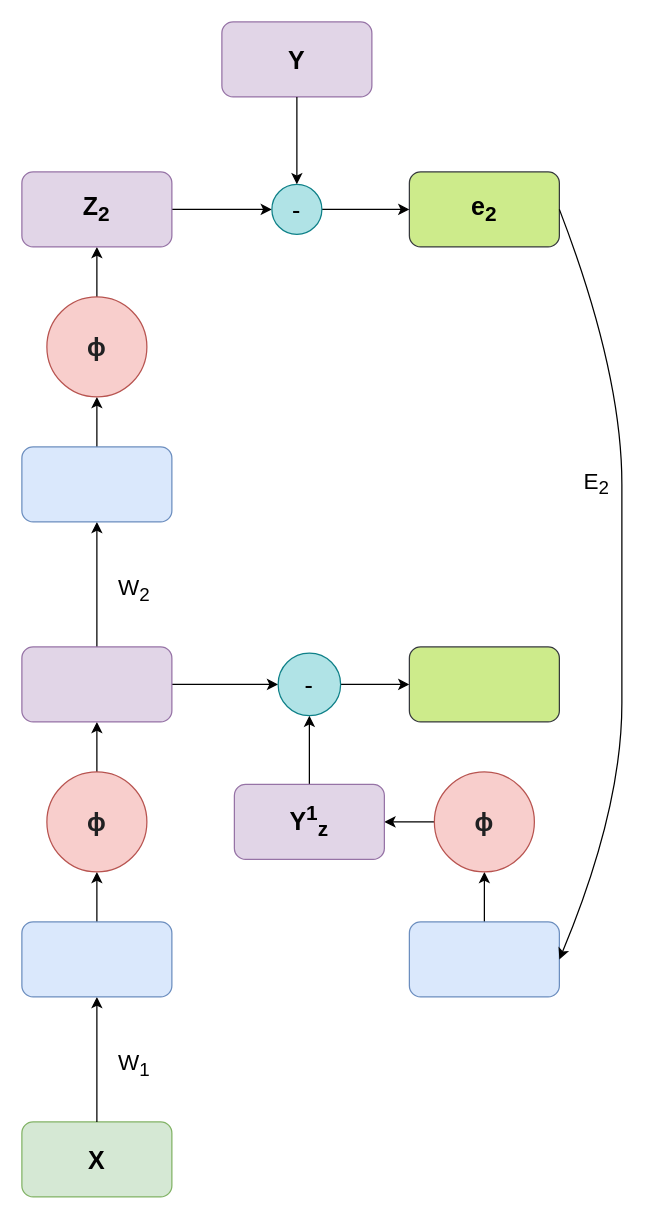
This 656x1219 diagram has some shape labels left out. Here are the shapes that lost their labels. From the top down, the centre of each, then its label:
At (96,484): "H 2".
At (96,684): "Z 1".
At (483,684): "e 1".
At (96,959): "H 1".
At (483,959): "H1 - β(E 2 e 2 )".
